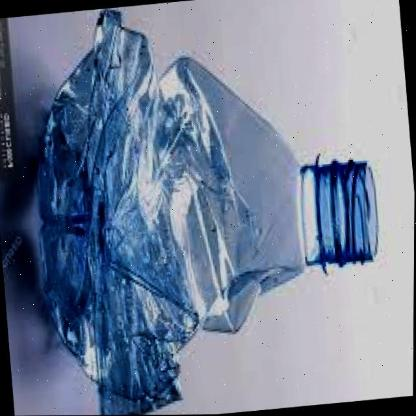Plastic Bottle: (32, 8, 378, 414), (34, 8, 198, 414), (150, 51, 306, 333), (300, 154, 378, 272)
